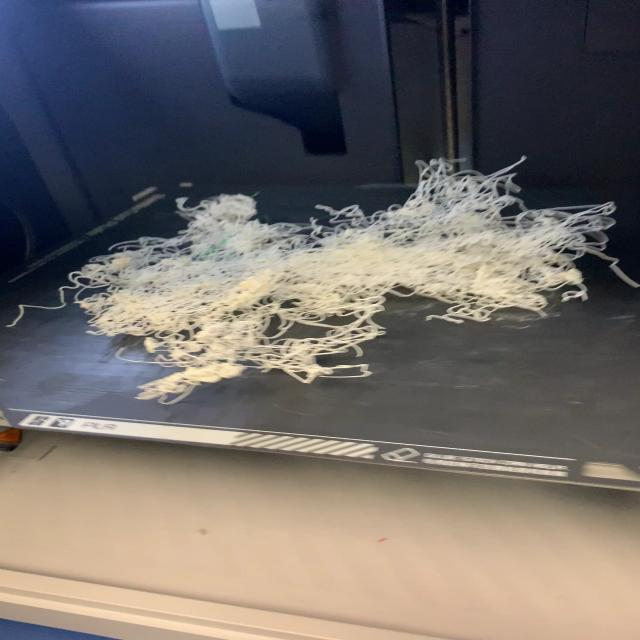spaghetti: (6, 153, 636, 407)
